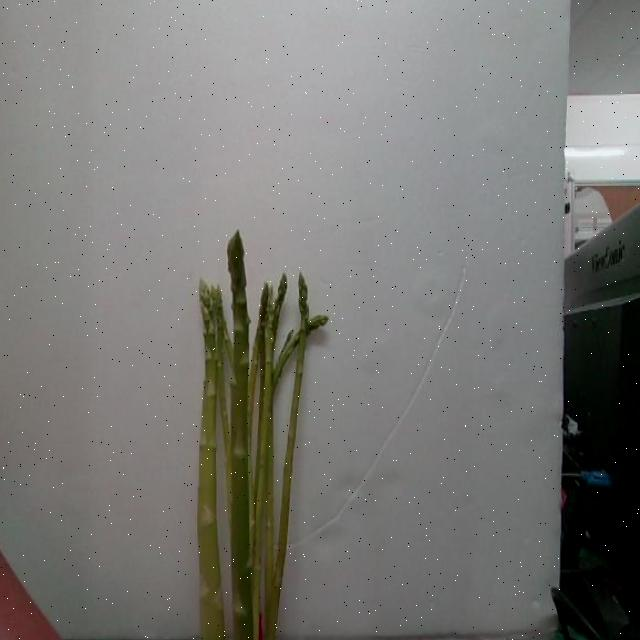aspargus: (197, 236, 328, 640)
